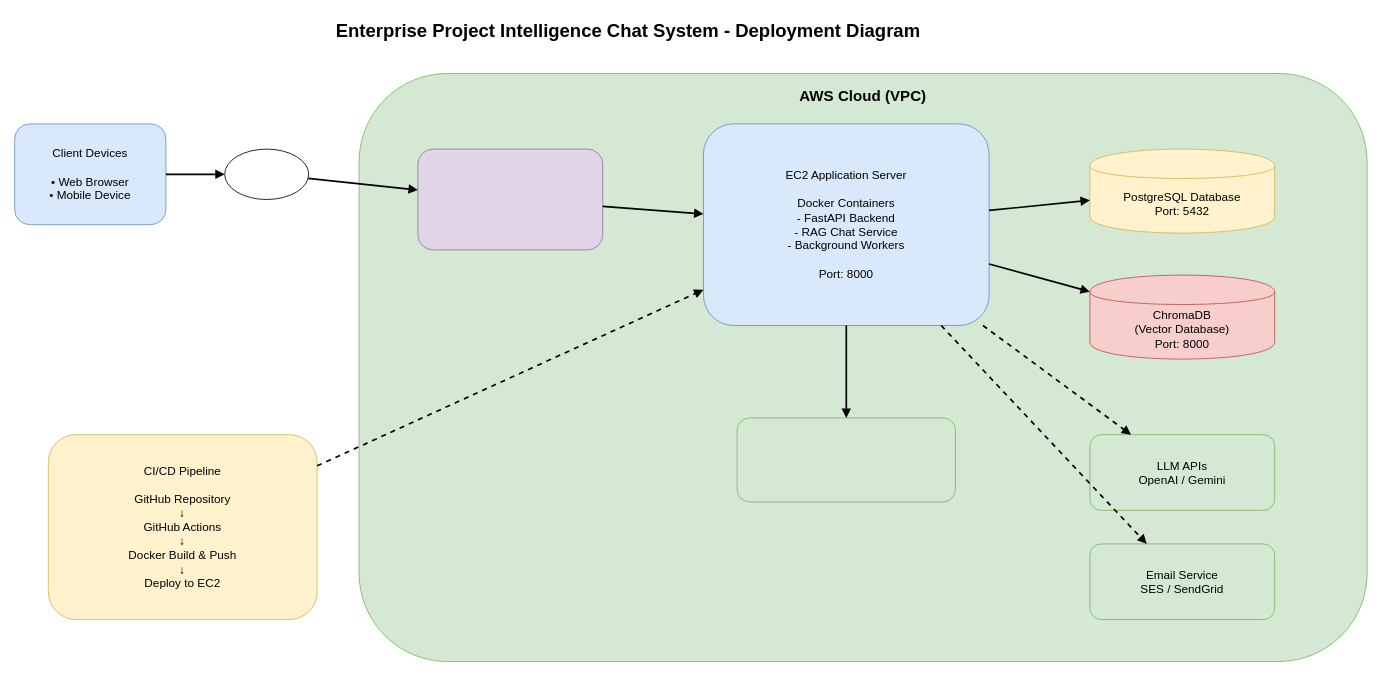
The diagram is 1382 pixels wide and 676 high, and some of its shapes have lost their labels. The shapes that lost their labels are listed below. From the top down, each one's box as (x1, y1, x2, y2) in pixels, then its label:
(224, 148, 309, 200): Internet
(417, 148, 603, 250): Nginx Reverse Proxy Port: 80 / 443
(736, 417, 956, 502): File Storage S3 / EBS / Local Storage
